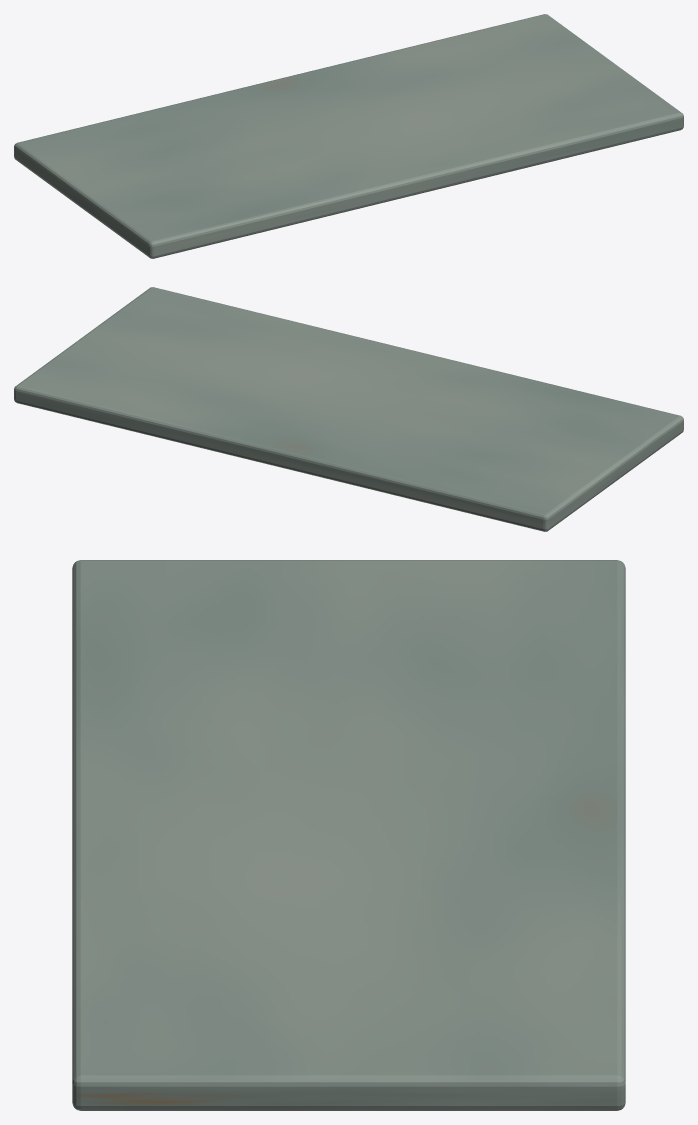
File: Service_Platform.glb
3 renders of one model, top to bottom at view 1: azimuth 30°, elevation 25°; view 2: azimuth 150°, elevation 25°; view 3: azimuth 270°, elevation 25°, orthographic. The views are drawn at different scales.
Visible parts, largest first — view 1: Service_Platform; view 2: Service_Platform; view 3: Service_Platform.
Boxes of the visible parts, <box> form: Service_Platform: <box>14,14,683,258</box>; Service_Platform: <box>14,287,683,531</box>; Service_Platform: <box>72,560,625,1110</box>.
Size of the model in its own units: 5.8 by 0.18 by 2.6.
1 material, 1 textured.
